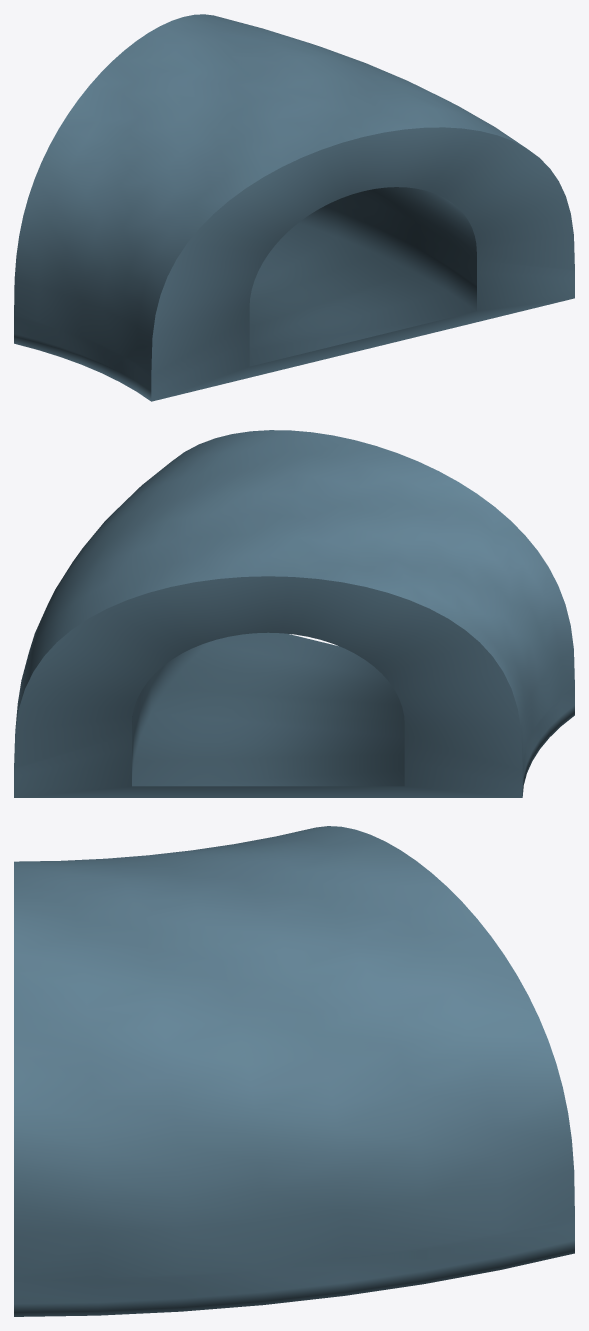
The model's file is curve_left_30_terrain_lod1.glb.
The picture shows the model from 3 angles, top to bottom: view 1: azimuth 30°, elevation 25°; view 2: azimuth 150°, elevation 25°; view 3: azimuth 270°, elevation 25°; orthographic projection. The views are drawn at different scales.
Parts seen in each view (by area): view 1: TerrainRoof.007; view 2: TerrainRoof.007; view 3: TerrainRoof.007.
Boxes of the visible parts, <box> form: TerrainRoof.007: <box>14,14,574,401</box>; TerrainRoof.007: <box>14,430,574,797</box>; TerrainRoof.007: <box>14,826,574,1316</box>.
Size of the model in its own units: 31.32 by 13.65 by 25.1.
